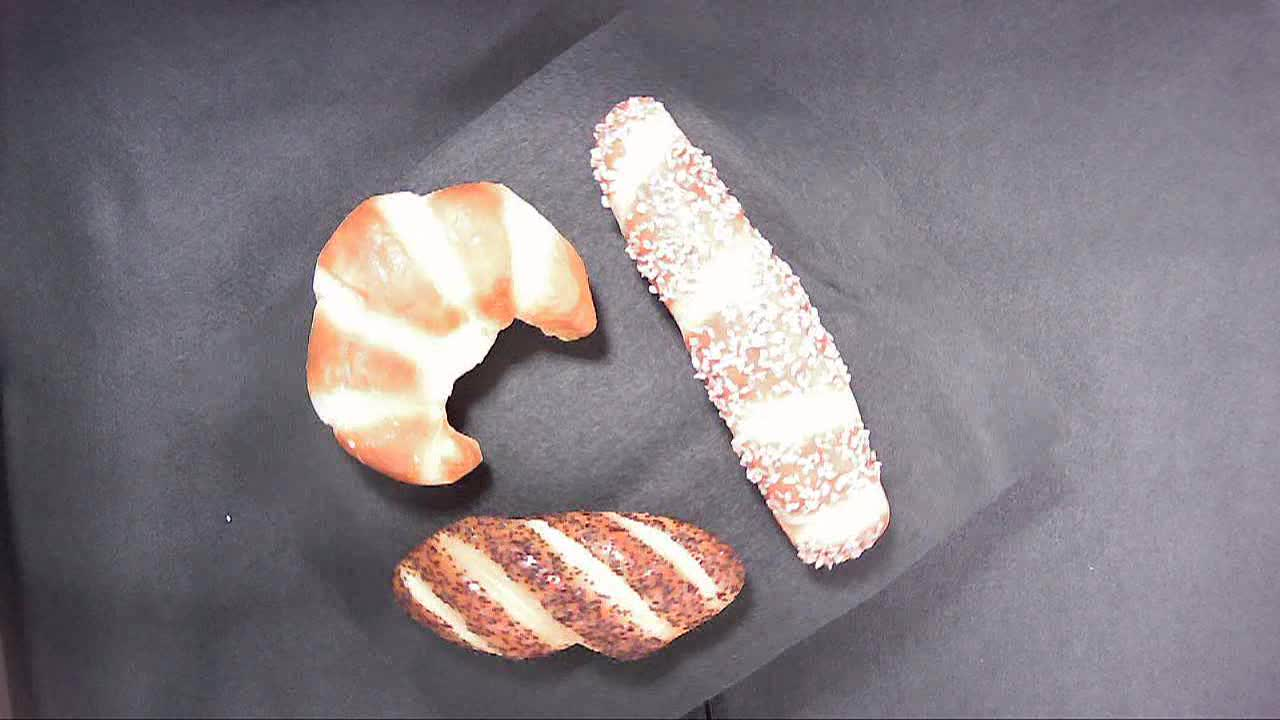cow: (296, 171, 600, 495)
long: (600, 84, 899, 506), (754, 200, 923, 582)
slash: (382, 509, 747, 661)
